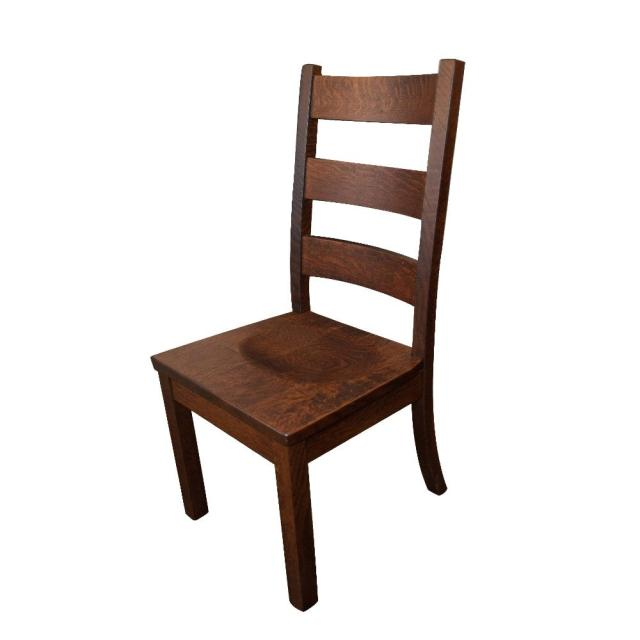chair: (87, 41, 567, 635)
